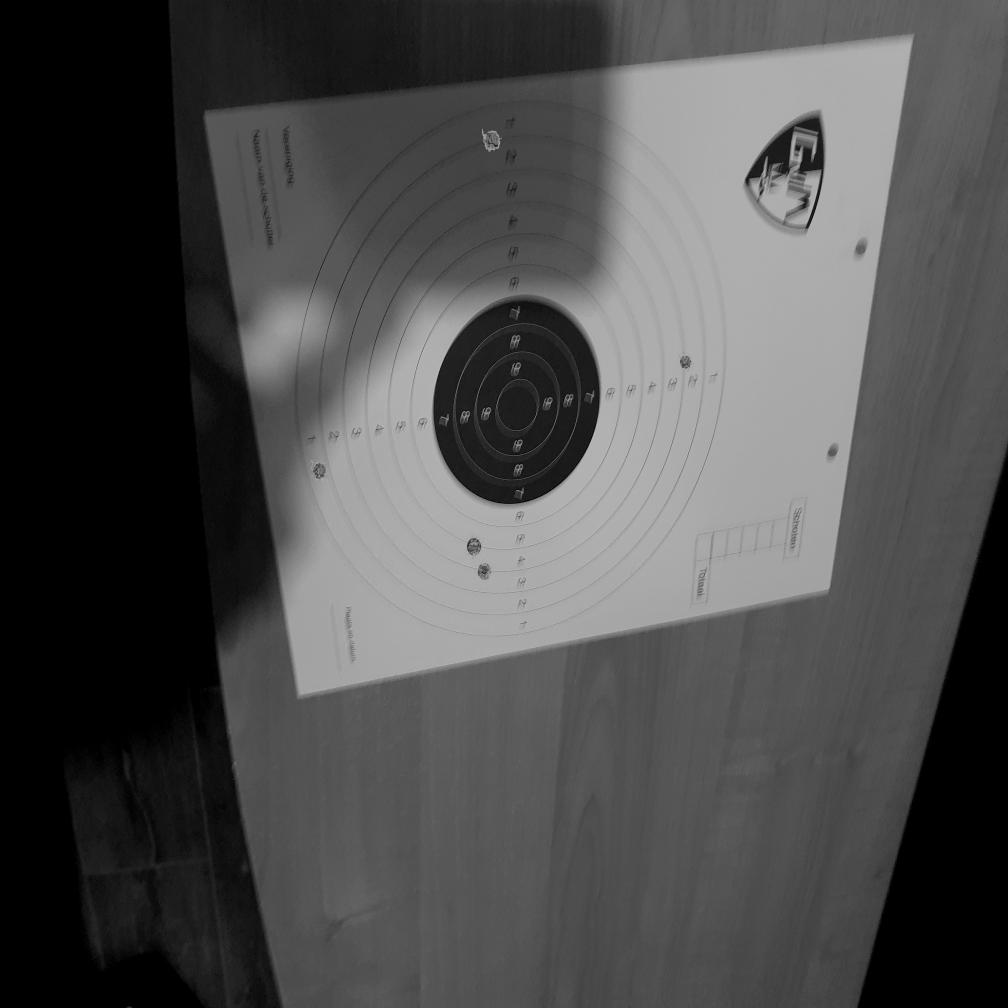1: (310, 460, 328, 482)
2: (481, 131, 500, 152)
3: (679, 352, 693, 373)
4: (477, 563, 492, 580)
5: (466, 537, 481, 558)
Target: (292, 97, 730, 642)
black_contour: (432, 297, 602, 505)
